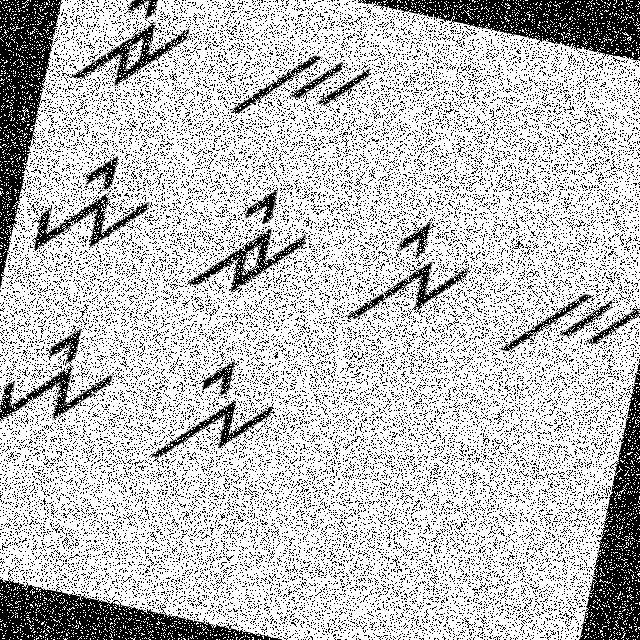li: (137, 339, 290, 491), (336, 206, 488, 346)
ri: (186, 174, 322, 313), (65, 0, 205, 111)
yi: (17, 138, 160, 276), (0, 310, 126, 449)
